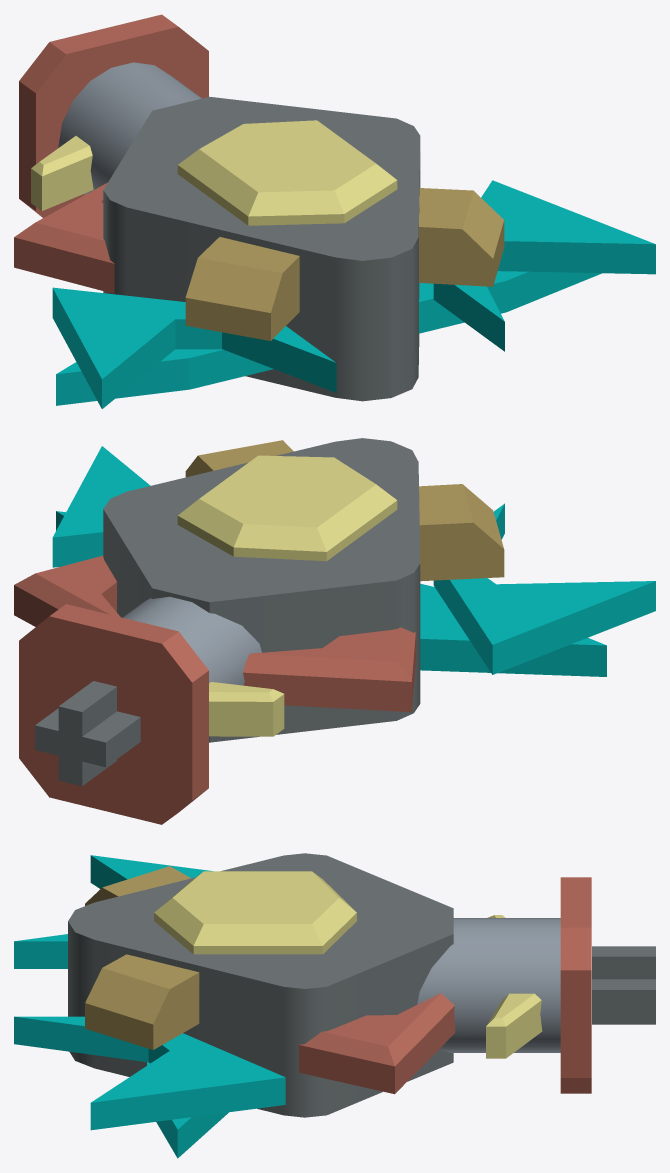
Rendered from port50.fbx.
3 views of the same model, one above another, from view 1: azimuth 30°, elevation 25°; view 2: azimuth 150°, elevation 25°; view 3: azimuth 270°, elevation 25° (orthographic). The views are drawn at different scales.
Parts seen in each view (by area): view 1: polySurface328; view 2: polySurface328; view 3: polySurface328.
Part boxes in pixels (box(x1,y1,x2,y2)): polySurface328: box(14, 14, 655, 408); polySurface328: box(14, 438, 655, 824); polySurface328: box(14, 853, 655, 1158).
Size of the model in its own units: 45.42 by 14.6 by 49.76.
